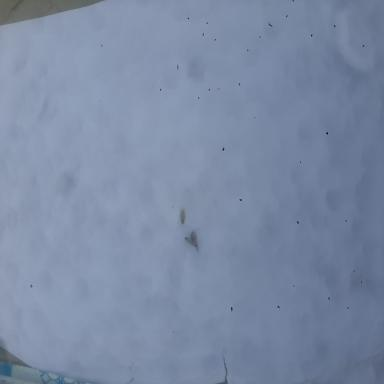pbw: (177, 208, 185, 224)
